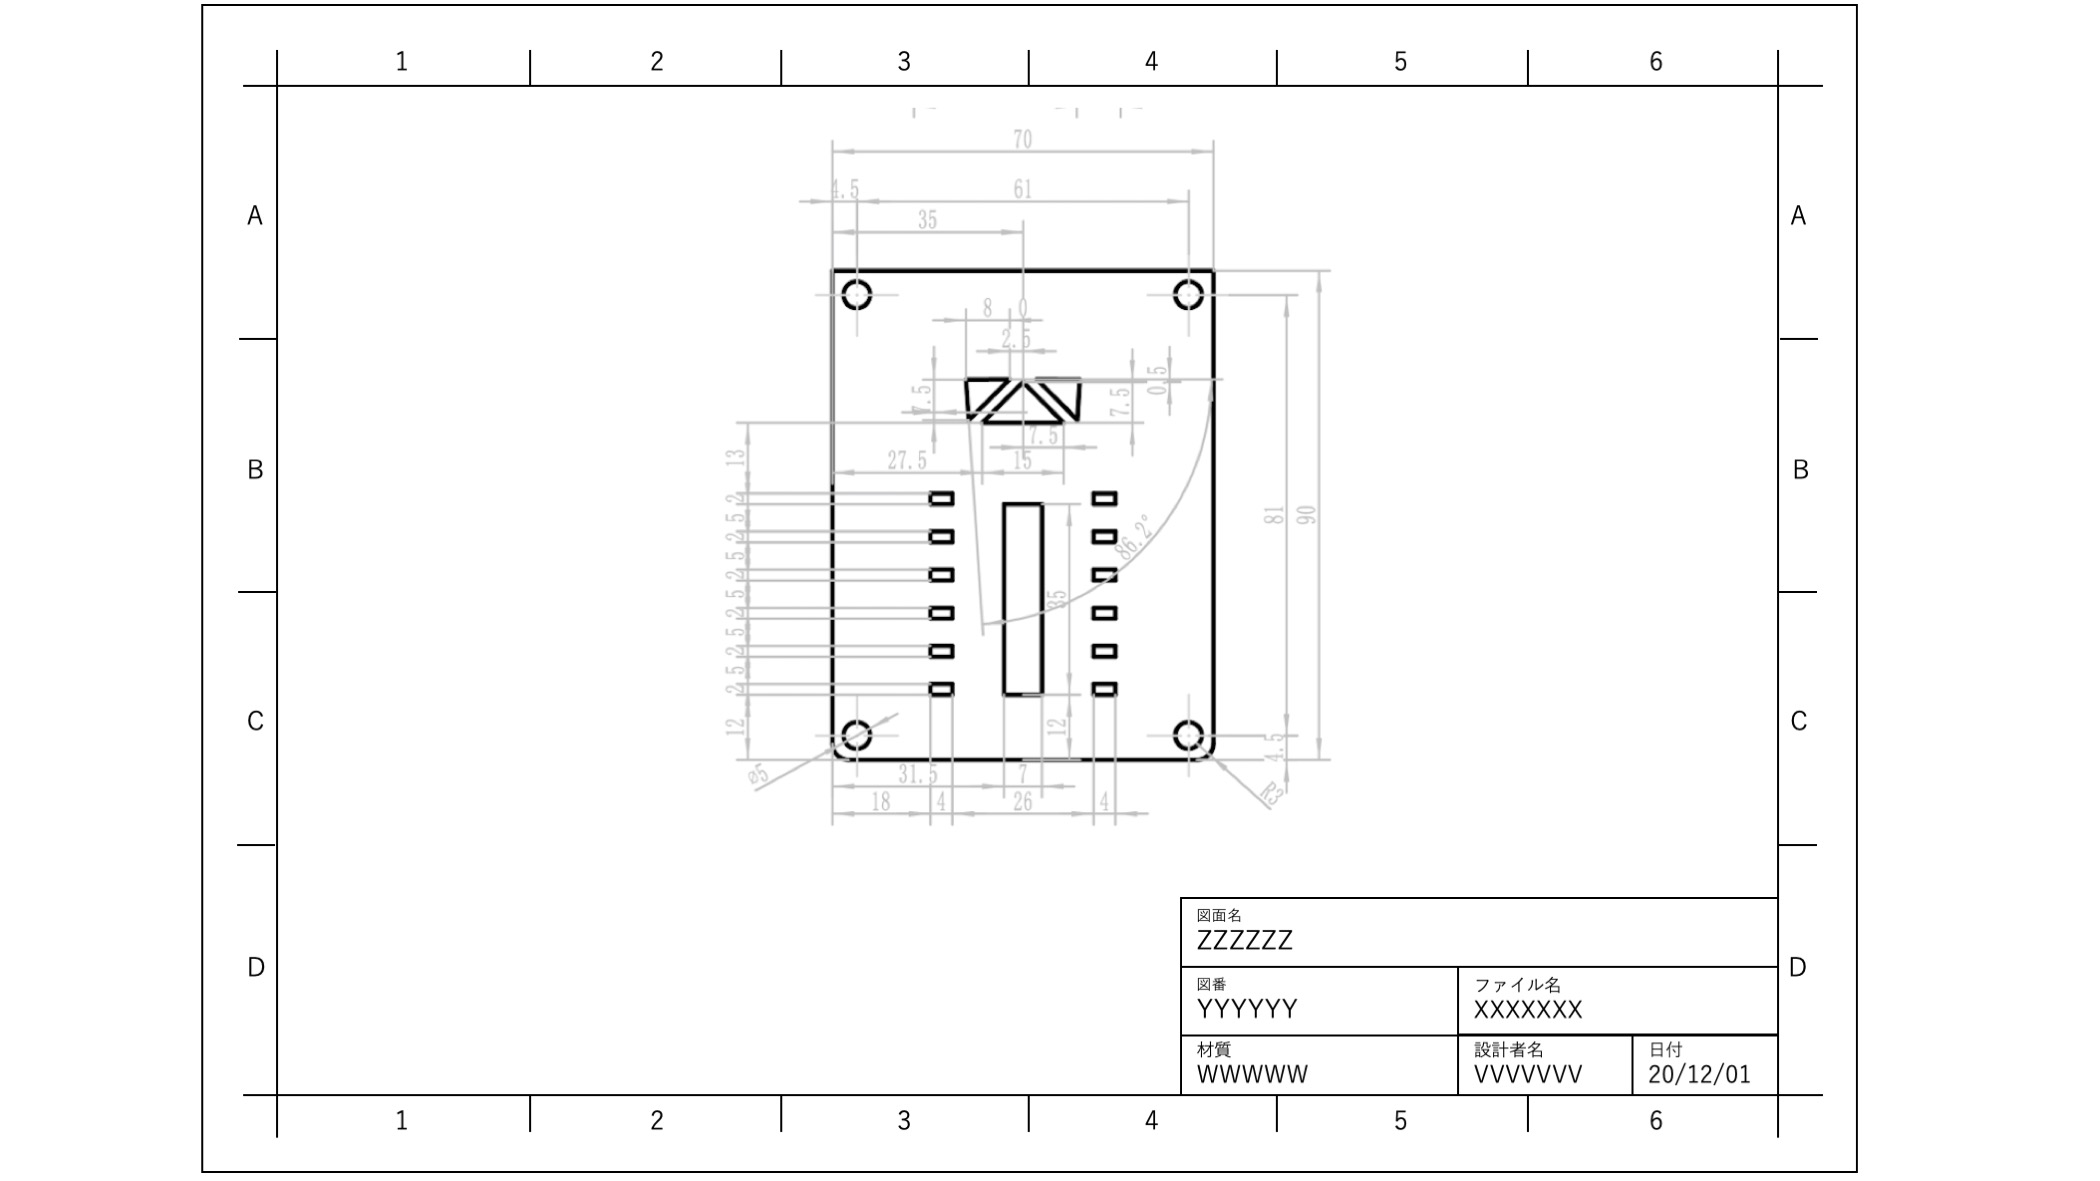circle: (831, 271, 875, 311), (1164, 709, 1204, 750), (1170, 273, 1206, 314), (837, 715, 875, 750)
rectangle: (997, 490, 1049, 704), (1086, 558, 1125, 587), (923, 521, 959, 549), (922, 598, 959, 626), (1085, 485, 1124, 510), (1085, 523, 1124, 549), (922, 558, 955, 588), (1087, 597, 1124, 624), (925, 482, 959, 509), (920, 676, 959, 699), (1085, 675, 1124, 698), (1085, 637, 1125, 659), (920, 639, 958, 660)
triangle: (974, 381, 1062, 425), (1028, 366, 1083, 423), (959, 371, 1011, 420)
